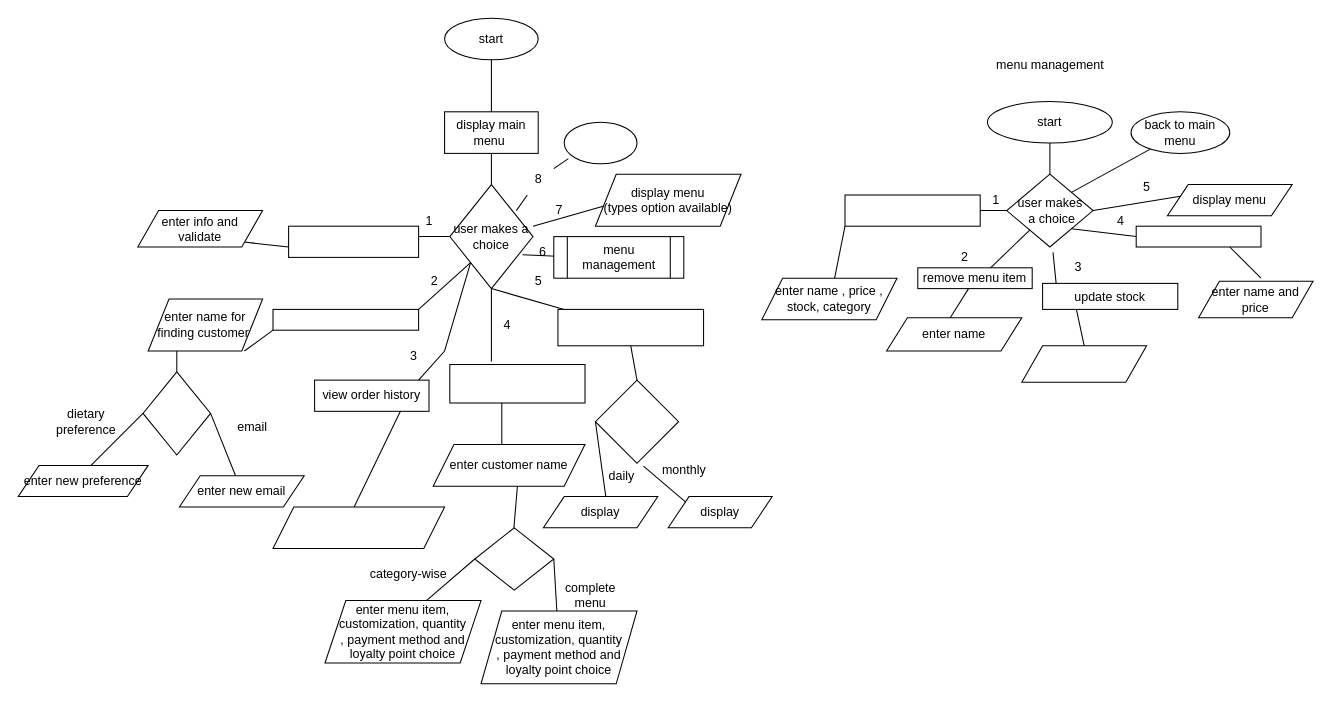
This 1331x702 diagram has some shape labels left out. Each missing label, with the box of its shape:
add menu item: (844, 194, 980, 226)
enter customer name for searching: (272, 506, 445, 549)
enter name and quantity: (1021, 345, 1147, 382)
exit: (563, 121, 637, 164)
generate sales report: (557, 308, 704, 346)
menu type: (474, 527, 554, 590)
place order: (449, 363, 585, 403)
register customer: (288, 225, 419, 257)
types: (594, 379, 679, 463)
update customer: (272, 308, 419, 330)
update price: (1135, 225, 1261, 247)
what do you wanna update?: (142, 371, 211, 455)
